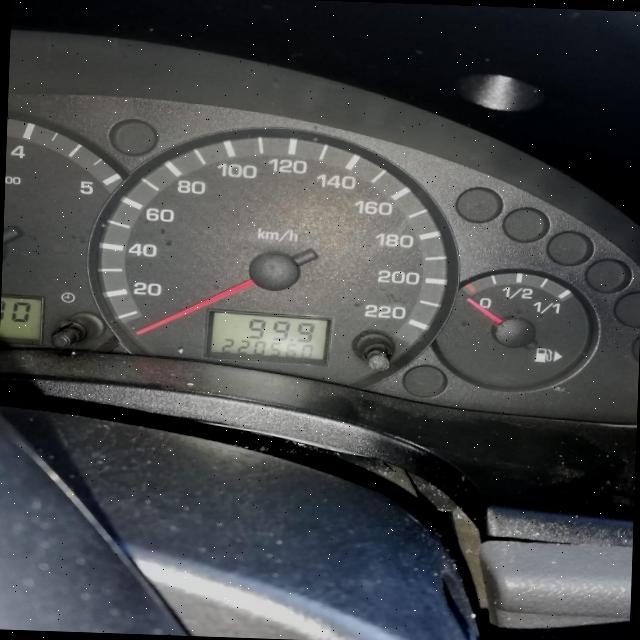odometer: (200, 307, 334, 367)
